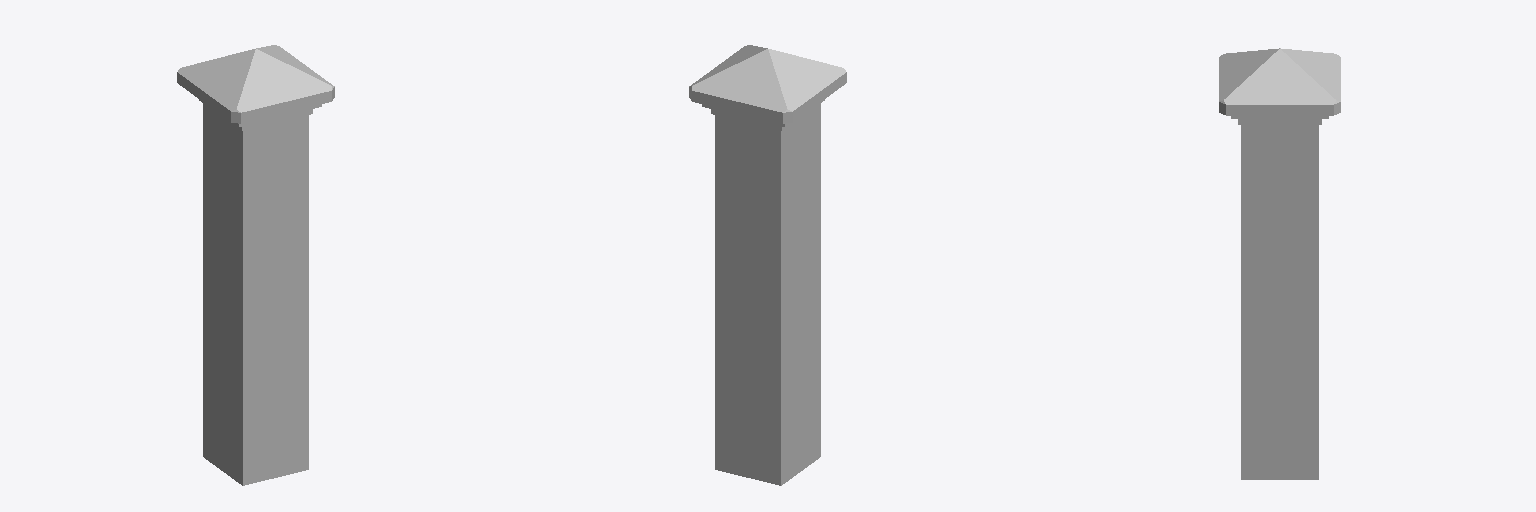
Rendered from lms_semaphore_top.obj.
The picture shows the model from 3 angles: view 1: azimuth 30°, elevation 25°; view 2: azimuth 150°, elevation 25°; view 3: azimuth 270°, elevation 25°; orthographic projection.
Visible parts, largest first — view 1: top_Cube.017; view 2: top_Cube.017; view 3: top_Cube.017.
Boxes of the visible parts, box(x1,y1,x2,y2) form: top_Cube.017: box(177, 45, 334, 485); top_Cube.017: box(689, 45, 846, 485); top_Cube.017: box(1219, 48, 1340, 479).
Size of the model in its own units: 0.2604 by 1 by 0.2667.